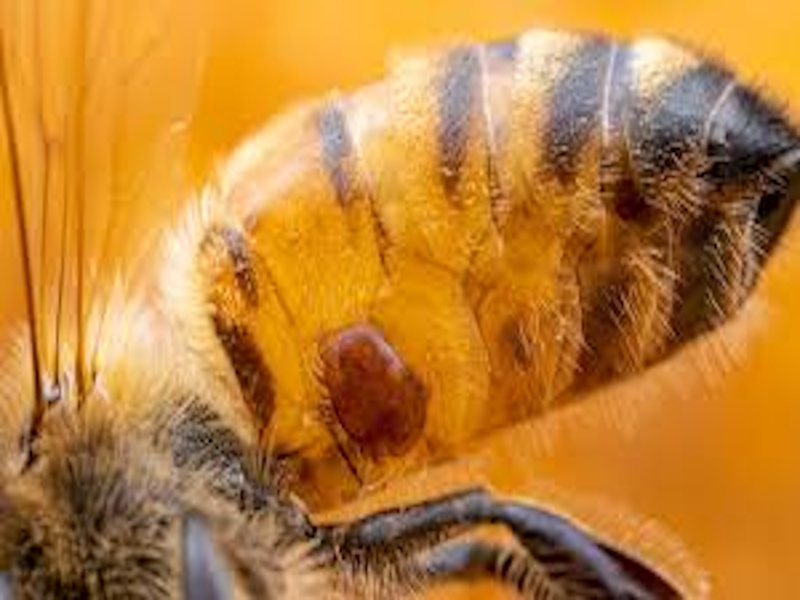abeja: (5, 6, 799, 600)
